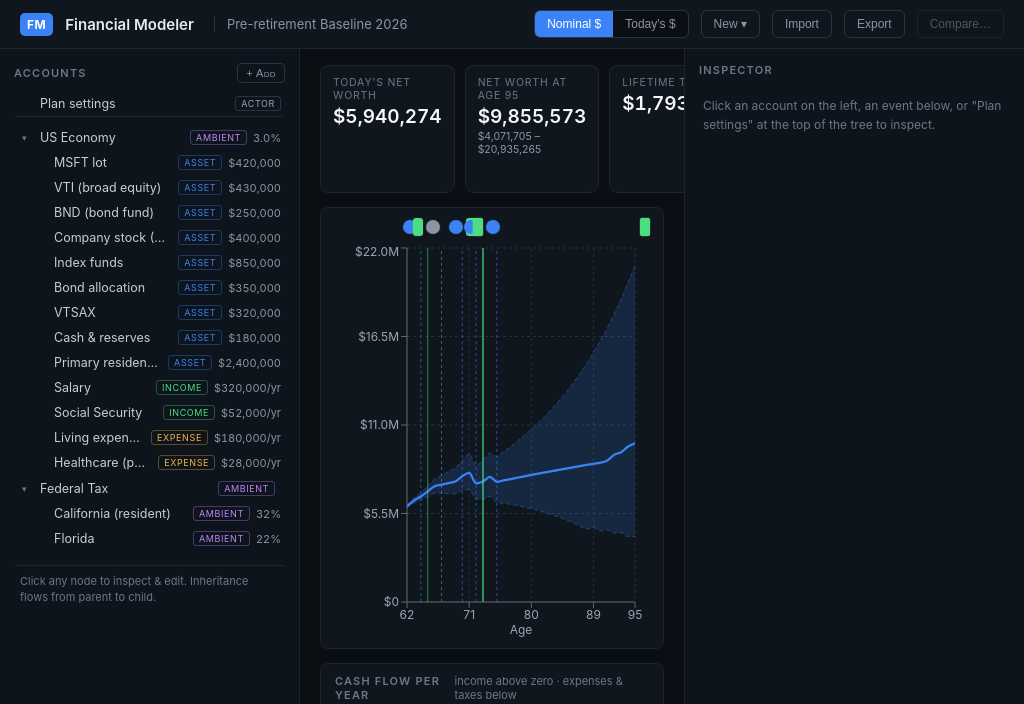
Scenario: UC4 — edit Plan settings › selecting Plan settings opens the actor inspector with current values
Click the text "Plan settings": {"x": 78, "y": 104} [40,96,116,111]
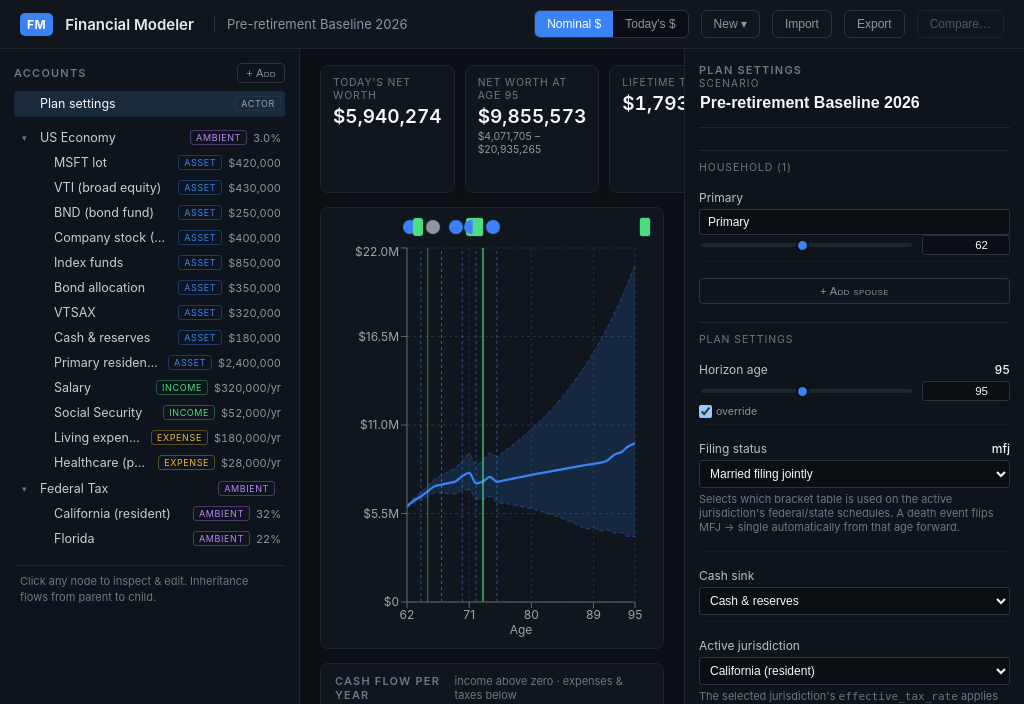
Expected: the field showing "Pre-retirement Baseline 2026" is shown, [693,89,1004,117]
